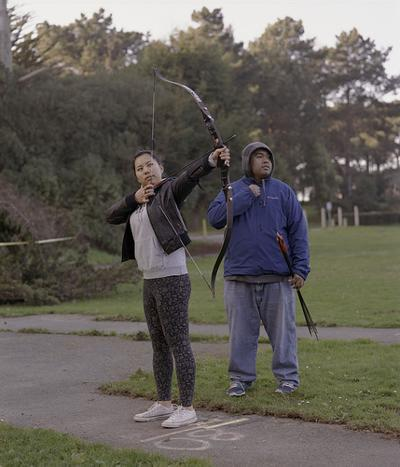person: (108, 143, 228, 431)
